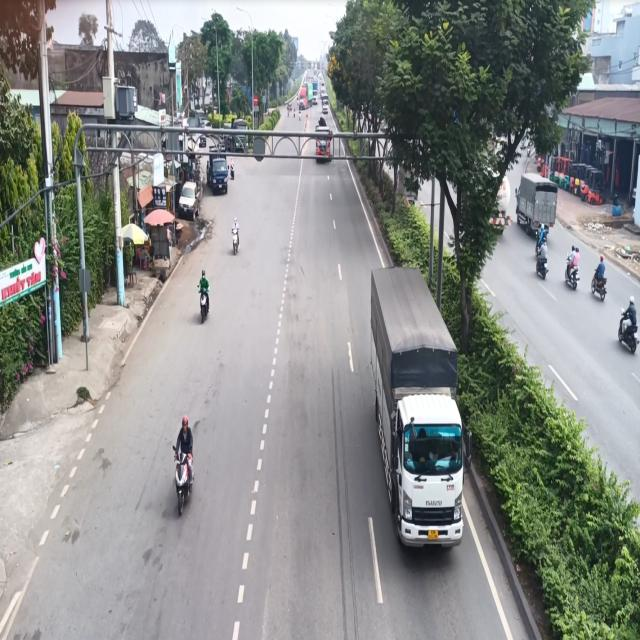motor: (166, 410, 202, 526), (198, 265, 211, 324), (228, 212, 240, 262)
truck: (360, 258, 468, 561)
